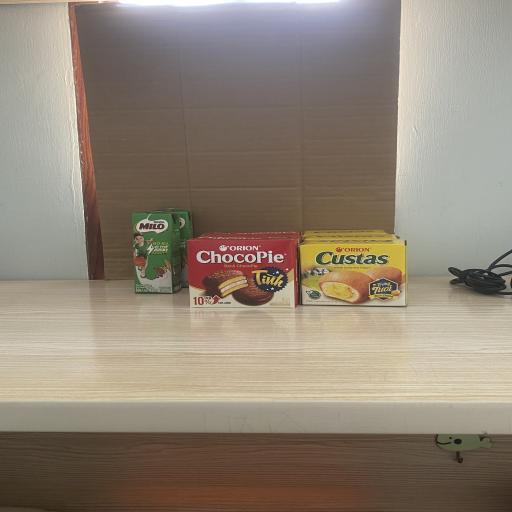chocopie: (187, 232, 298, 308), (204, 230, 302, 236)
custas: (299, 236, 407, 307), (301, 231, 399, 239), (302, 229, 386, 233)
milo: (130, 210, 182, 294), (154, 208, 193, 287)
